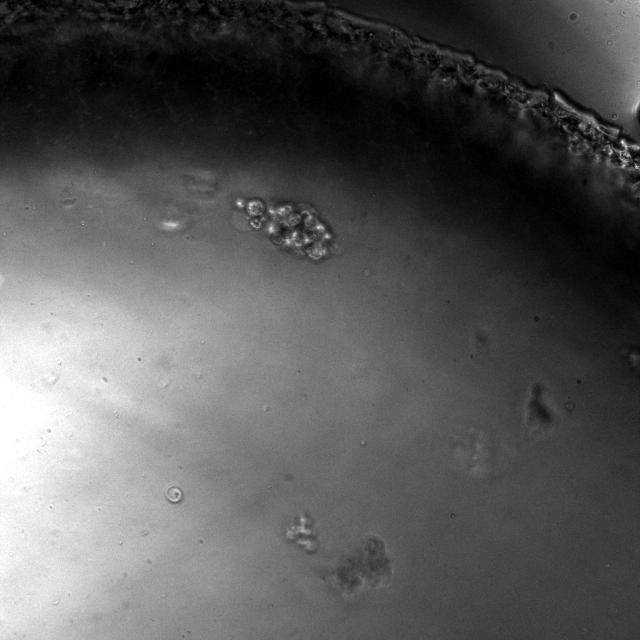organoid: (234, 198, 335, 261), (329, 535, 392, 596), (525, 385, 552, 436), (287, 514, 317, 553), (164, 484, 184, 502)
